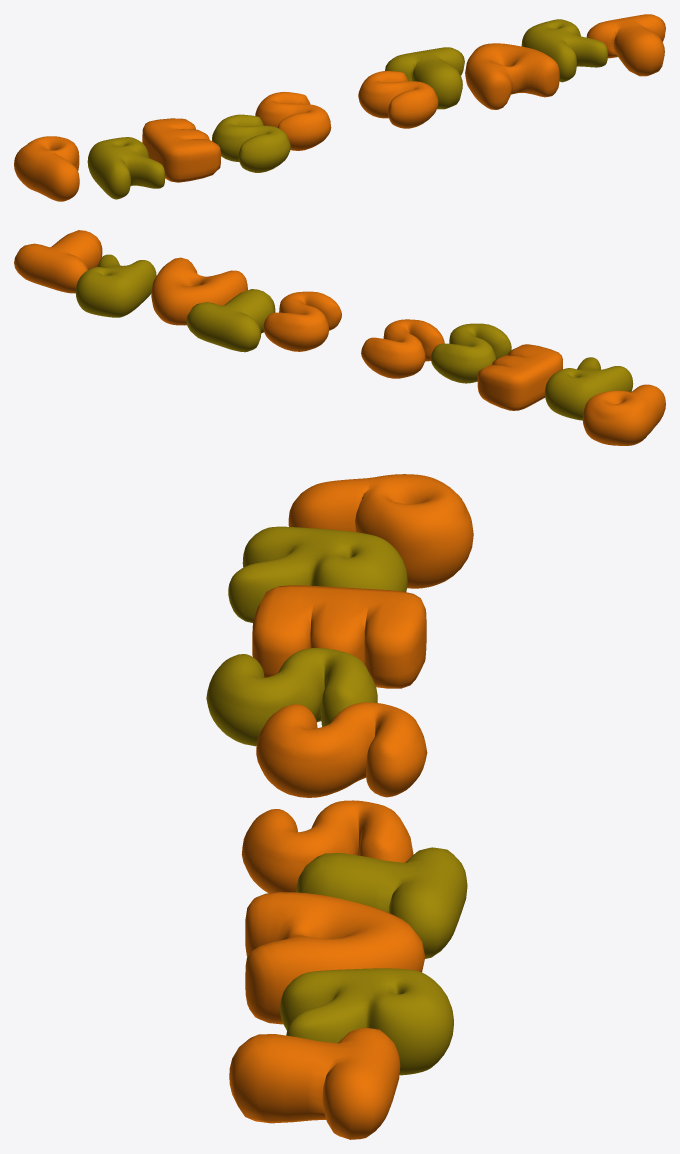
Rendered from Text_PressStart.fbx.
3 views of the same model, one above another, from view 1: azimuth 30°, elevation 25°; view 2: azimuth 150°, elevation 25°; view 3: azimuth 270°, elevation 25° (orthographic). The views are drawn at different scales.
Parts seen in each view (by area): view 1: A1, E1, P1, R1, S3, T2, S1, R2, S2, T1; view 2: E1, P1, A1, T1, R2, T2, S3, S2, S1, R1; view 3: T2, A1, E1, S2, P1, R2, S1, R1, T1, S3.
Part boxes in pixels (<box>): A1: <box>465,43,559,109</box>; E1: <box>142,118,220,182</box>; P1: <box>14,136,79,201</box>; R1: <box>87,137,165,199</box>; S3: <box>358,71,438,128</box>; T2: <box>586,14,665,76</box>; S1: <box>212,114,290,172</box>; R2: <box>521,19,607,82</box>; S2: <box>255,91,331,150</box>; T1: <box>385,47,464,109</box>; E1: <box>477,344,562,410</box>; P1: <box>582,384,665,445</box>; A1: <box>151,257,247,325</box>; T1: <box>186,289,275,352</box>; R2: <box>75,254,156,317</box>; T2: <box>14,230,102,293</box>; S3: <box>263,291,341,351</box>; S2: <box>361,319,444,378</box>; S1: <box>430,323,511,383</box>; R1: <box>544,357,633,420</box>; T2: <box>229,1027,400,1139</box>; A1: <box>245,892,425,1024</box>; E1: <box>252,585,426,688</box>; S2: <box>256,702,427,797</box>; P1: <box>288,474,473,588</box>; R2: <box>280,968,453,1075</box>; S1: <box>206,648,377,746</box>; R1: <box>228,526,407,622</box>; T1: <box>296,847,467,958</box>; S3: <box>241,800,413,893</box>.
Bounding box in the file's own units: 164 × 10.15 × 29.96.
